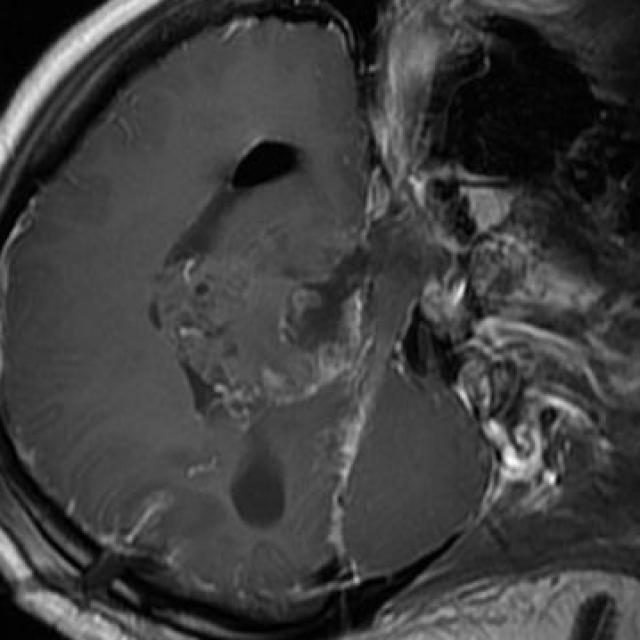glioma: (150, 137, 385, 556)
